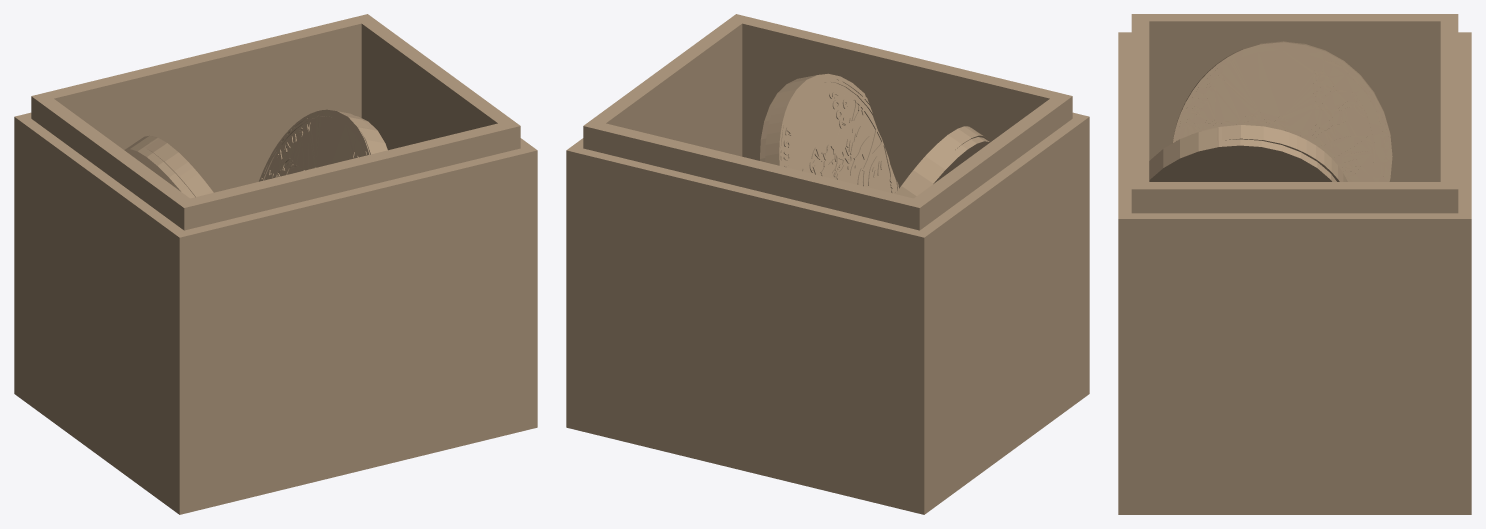
The model's file is project154-2.glb.
The picture shows the model from 3 angles, left to right: view 1: azimuth 30°, elevation 25°; view 2: azimuth 150°, elevation 25°; view 3: azimuth 270°, elevation 25°; orthographic projection. The views are drawn at different scales.
Visible parts, largest first — view 1: Mesh_Mesh_head_geo.001_lambert2SG.001; view 2: Mesh_Mesh_head_geo.001_lambert2SG.001; view 3: Mesh_Mesh_head_geo.001_lambert2SG.001.
Part boxes in pixels (left/top/right/bottom): Mesh_Mesh_head_geo.001_lambert2SG.001: left=14, top=14, right=537, bottom=514; Mesh_Mesh_head_geo.001_lambert2SG.001: left=566, top=14, right=1089, bottom=514; Mesh_Mesh_head_geo.001_lambert2SG.001: left=1118, top=14, right=1471, bottom=514.
Size of the model in its own units: 25 by 20.08 by 20.
